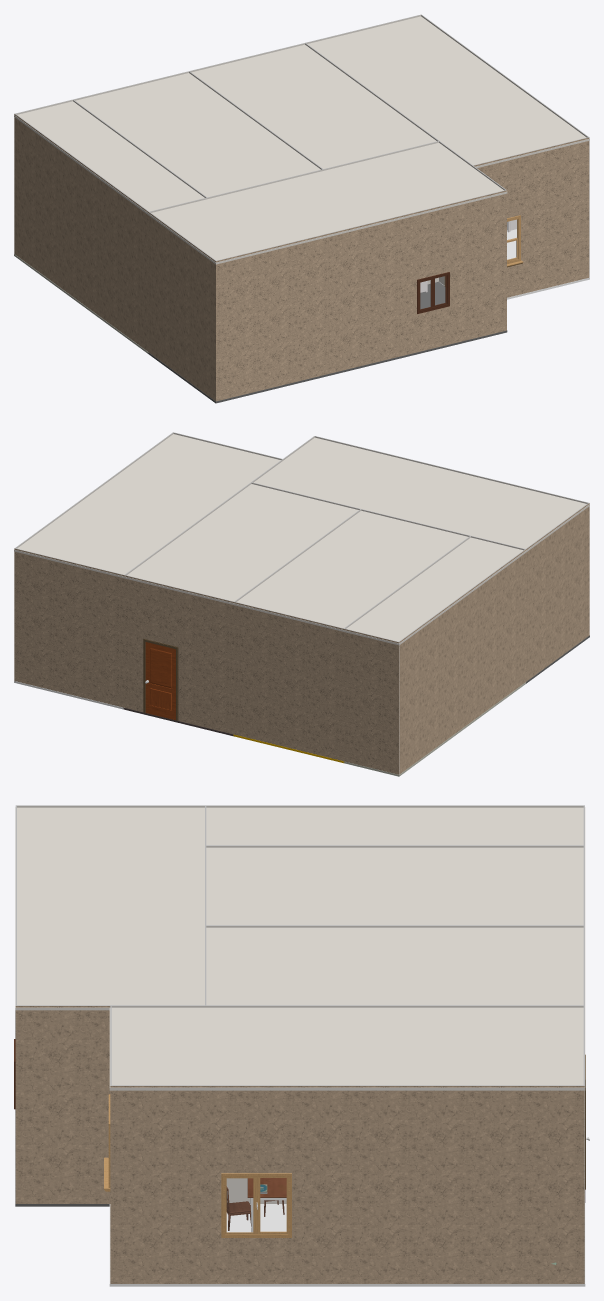
Rendered from ProcTHOR-Train-10.glb.
3 renders of one model, top to bottom at view 1: azimuth 30°, elevation 25°; view 2: azimuth 150°, elevation 25°; view 3: azimuth 270°, elevation 25°, orthographic. The views are drawn at different scales.
Parts seen in each view (by area): view 1: WallInside#wall|exterior|3.27|9.81|11.45|9.81, Ceiling#room|6|c, Ceiling#room|5|c, WallInside#wall|exterior|11.45|0.00|11.45|6.54, Ceiling#room|2|c, Ceiling#room|4|c, WallInside#wall|exterior|0.00|8.18|3.27|8.18, WallInside#wall|exterior|11.45|6.54|11.45|9.81, Ceiling#room|3|c, Floor#room|6|f, Window_Slider_36x36; view 2: Ceiling#room|5|c, WallInside#wall|exterior|11.45|0.00|11.45|6.54, Ceiling#room|6|c, WallInside#wall|exterior|0.00|0.00|3.27|0.00, WallInside#wall|exterior|6.54|0.00|9.81|0.00, Ceiling#room|2|c, Ceiling#room|4|c, WallInside#wall|exterior|3.27|0.00|6.54|0.00, WallInside#wall|exterior|11.45|6.54|11.45|9.81, WallInside#wall|exterior|9.81|0.00|11.45|0.00, Ceiling#room|3|c, Doorway_4 (+2 smaller); view 3: WallInside#wall|exterior|0.00|0.00|0.00|8.18, Ceiling#room|5|c, Ceiling#room|6|c, Ceiling#room|2|c, Ceiling#room|4|c, WallInside#wall|exterior|3.27|8.18|3.27|9.81, Ceiling#room|3|c, Floor#room|5|f, Window_Slider_48x48, WallInside#wall|5|3.27|0.00|3.27|6.54, WallInside#wall|2|9.81|0.00|9.81|6.54, WallInside#wall|3|11.45|0.00|11.45|6.54 (+2 smaller).
Part boxes in pixels (<box>): WallInside#wall|exterior|3.27|9.81|11.45|9.81: <box>216,190,506,401</box>; Ceiling#room|6|c: <box>148,143,507,264</box>; Ceiling#room|5|c: <box>306,16,589,167</box>; WallInside#wall|exterior|11.45|0.00|11.45|6.54: <box>14,114,148,351</box>; Ceiling#room|2|c: <box>73,73,320,198</box>; Ceiling#room|4|c: <box>191,44,436,170</box>; WallInside#wall|exterior|0.00|8.18|3.27|8.18: <box>473,137,589,297</box>; WallInside#wall|exterior|11.45|6.54|11.45|9.81: <box>148,212,215,401</box>; Ceiling#room|3|c: <box>14,101,206,214</box>; Floor#room|6|f: <box>148,282,507,403</box>; Window_Slider_36x36: <box>417,272,449,313</box>; Ceiling#room|5|c: <box>14,434,280,577</box>; WallInside#wall|exterior|11.45|0.00|11.45|6.54: <box>399,549,526,774</box>; Ceiling#room|6|c: <box>253,437,589,552</box>; WallInside#wall|exterior|0.00|0.00|3.27|0.00: <box>14,548,124,707</box>; WallInside#wall|exterior|6.54|0.00|9.81|0.00: <box>234,602,344,761</box>; Ceiling#room|2|c: <box>234,511,469,631</box>; Ceiling#room|4|c: <box>123,484,360,604</box>; WallInside#wall|exterior|3.27|0.00|6.54|0.00: <box>124,575,234,734</box>; WallInside#wall|exterior|11.45|6.54|11.45|9.81: <box>526,503,589,681</box>; WallInside#wall|exterior|9.81|0.00|11.45|0.00: <box>344,628,398,774</box>; Ceiling#room|3|c: <box>344,537,525,645</box>; Doorway_4: <box>143,638,178,720</box>; WallInside#wall|exterior|0.00|0.00|0.00|8.18: <box>110,1085,584,1283</box>; Ceiling#room|5|c: <box>109,1007,585,1090</box>; Ceiling#room|6|c: <box>15,807,206,1010</box>; Ceiling#room|2|c: <box>204,847,585,927</box>; Ceiling#room|4|c: <box>204,928,585,1007</box>; WallInside#wall|exterior|3.27|8.18|3.27|9.81: <box>15,1005,110,1203</box>; Ceiling#room|3|c: <box>204,807,585,847</box>; Floor#room|5|f: <box>109,1203,585,1286</box>; Window_Slider_48x48: <box>221,1173,291,1237</box>; WallInside#wall|5|3.27|0.00|3.27|6.54: <box>205,1005,584,1203</box>; WallInside#wall|2|9.81|0.00|9.81|6.54: <box>205,845,584,847</box>; WallInside#wall|3|11.45|0.00|11.45|6.54: <box>205,805,584,807</box>.
Size of what is drawn, in the model's own units: 11.51 by 3.83 by 9.95.
345 materials, 145 textured.
